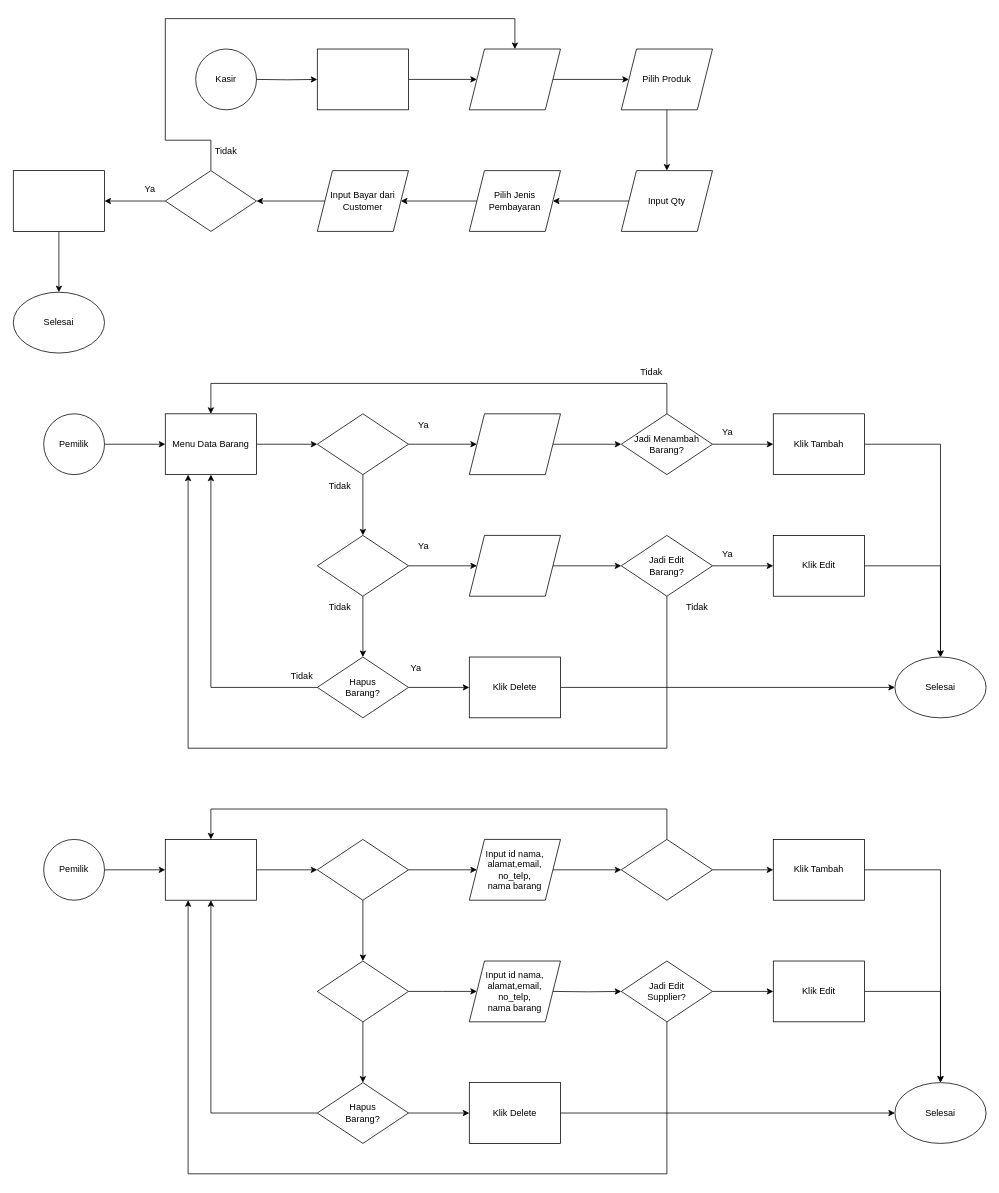
Image size: 999x1193. Some labels were removed from this diagram. The centre of each missing label's shape, as x and y in pixels:
Edit Barang?: (x=362, y=565)
Edit Supplier?: (x=362, y=991)
Input id, nama, kategori, stok, harga, supplier: (x=514, y=444)
Input nama, kategori, stok, harga, supplier: (x=514, y=565)
Jadi Beli?: (x=210, y=200)
Jadi Menambah Supplier?: (x=666, y=869)
Klik Bayar Pesanan: (x=58, y=200)
Menambah Barang?: (x=362, y=444)
Menambah Supplier?: (x=362, y=869)
Menu Supplier: (x=210, y=869)
Menu Transaksi: (x=362, y=79)
Pilih Kategori: (x=514, y=79)
